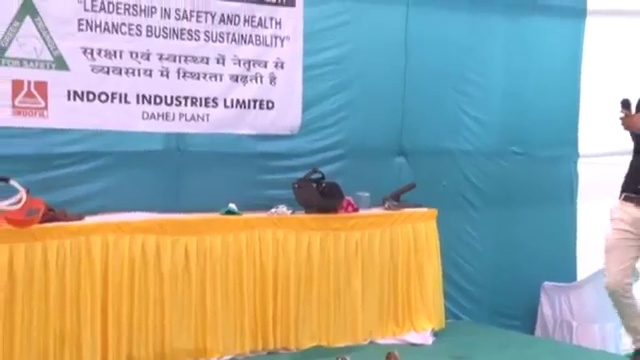person: (601, 97, 640, 357)
